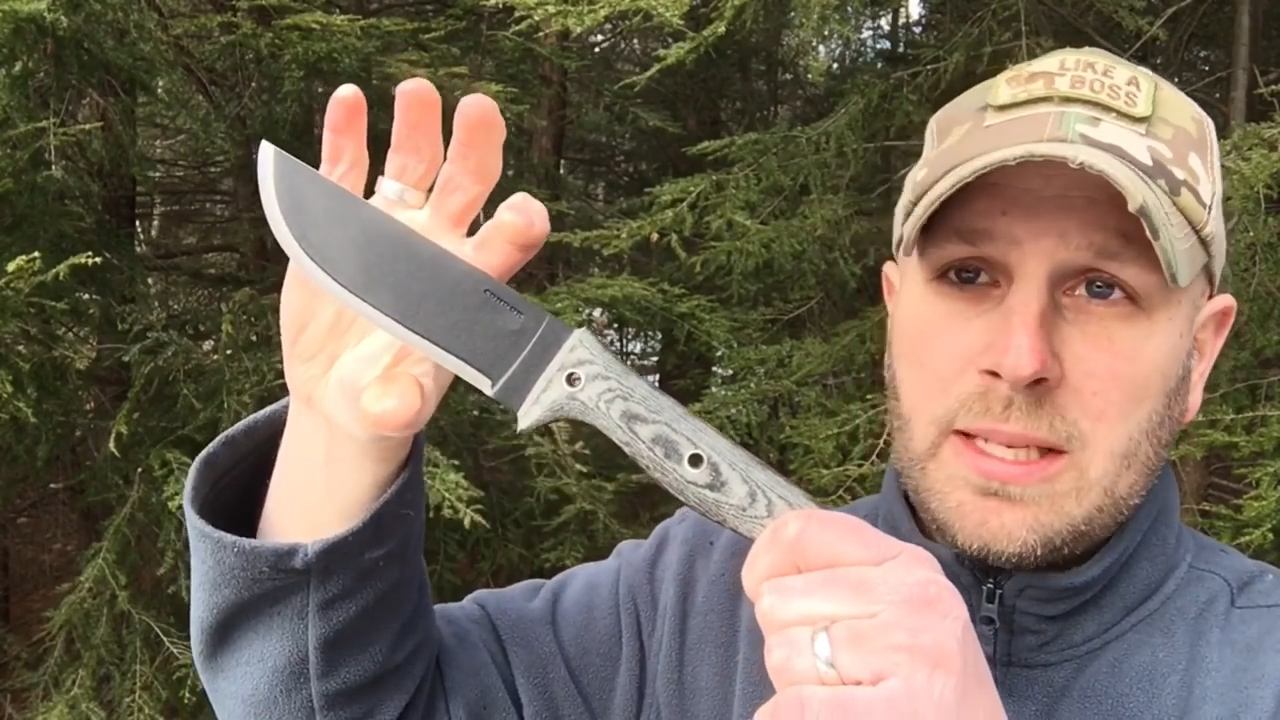knife: (243, 127, 639, 453)
